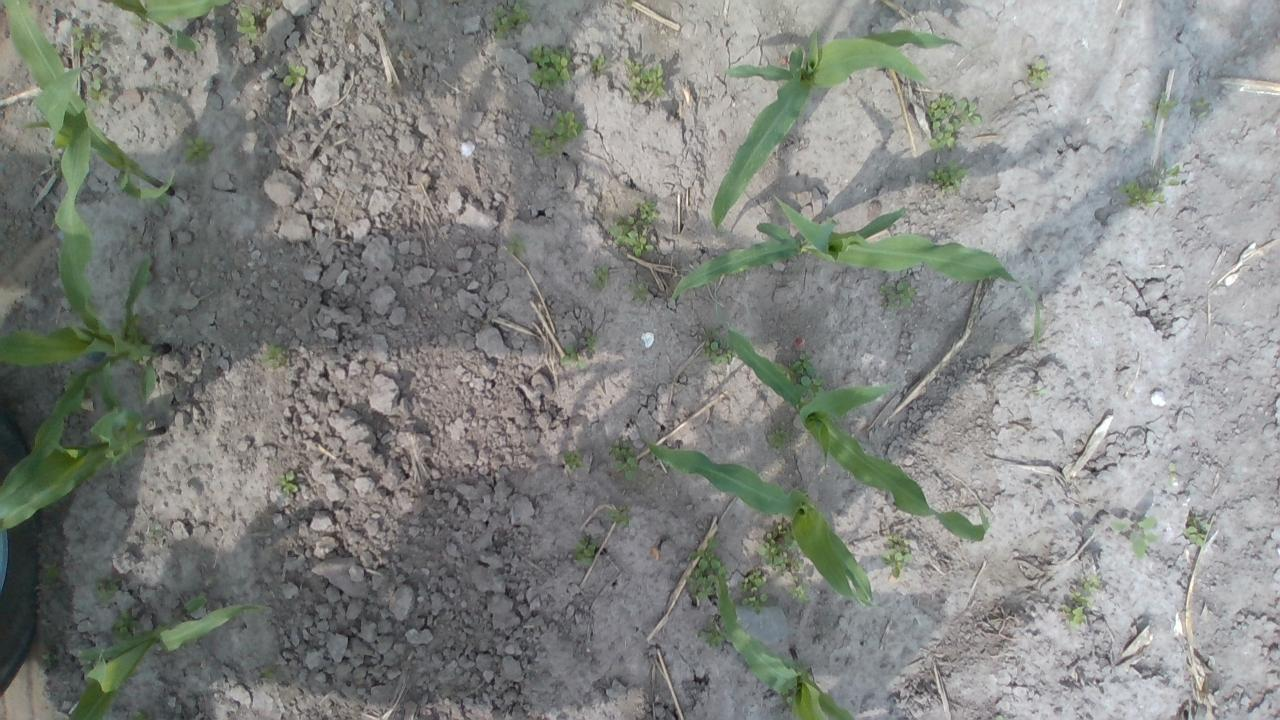Maize: (722, 321, 994, 547), (7, 125, 177, 463), (709, 26, 966, 230), (622, 428, 876, 612), (670, 192, 1020, 302), (0, 0, 178, 215), (3, 360, 173, 538), (66, 596, 278, 717), (712, 570, 868, 718), (92, 4, 226, 52)
Weeds: (685, 538, 731, 646), (33, 540, 66, 672), (762, 524, 812, 608), (604, 200, 662, 258), (64, 30, 110, 100), (928, 94, 982, 150), (532, 42, 578, 92), (1064, 576, 1102, 630), (531, 110, 581, 151), (624, 59, 670, 101), (1112, 513, 1158, 555), (492, 1, 532, 41), (787, 354, 822, 393), (1120, 180, 1164, 211), (926, 166, 968, 198), (740, 565, 766, 614), (883, 275, 921, 308), (883, 541, 909, 582), (610, 441, 638, 478), (180, 136, 212, 168), (560, 334, 596, 362), (769, 424, 796, 458), (1182, 517, 1212, 546), (708, 330, 732, 366), (1024, 60, 1048, 88), (1154, 166, 1182, 190), (274, 473, 296, 496), (592, 55, 614, 78), (572, 538, 592, 562), (283, 68, 305, 88), (262, 344, 280, 367), (631, 278, 648, 302), (1192, 100, 1212, 120), (90, 582, 112, 600), (591, 266, 608, 288), (503, 235, 525, 252), (560, 450, 578, 468), (1156, 96, 1174, 114), (1142, 116, 1156, 136), (606, 505, 624, 519)
